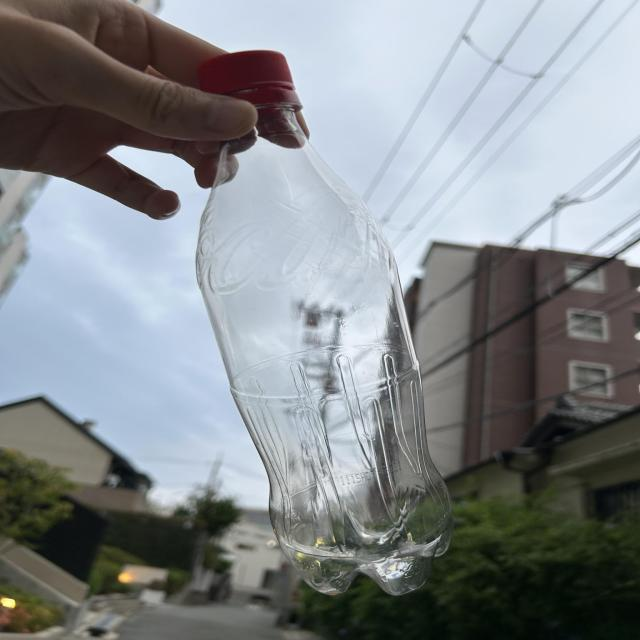empty: (196, 51, 451, 595)
